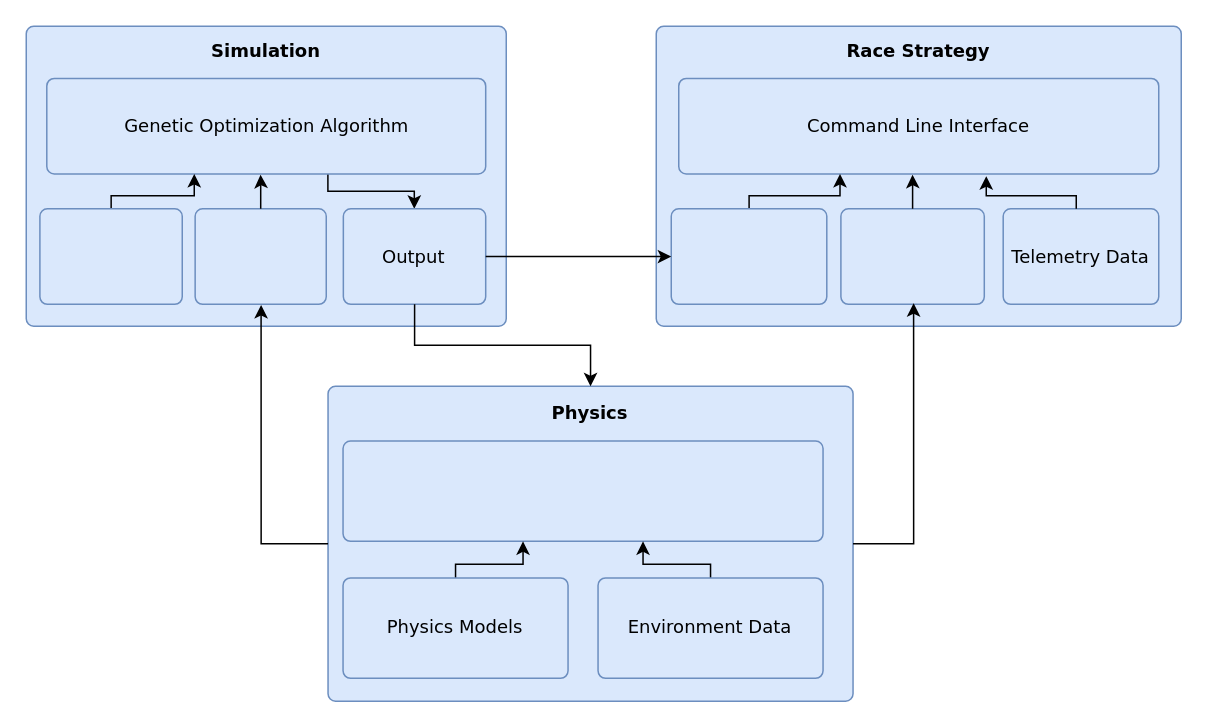
The diagram is 1208 pixels wide and 728 high, and some of its shapes have lost their labels. Here are the shapes that lost their labels. From the top down, the box of each, then its label:
(38, 207, 182, 304): Constraints
(194, 207, 326, 304): Results
(670, 207, 827, 304): Optimization Results
(839, 207, 984, 304): Simulation Results
(342, 440, 823, 541): Car Components
